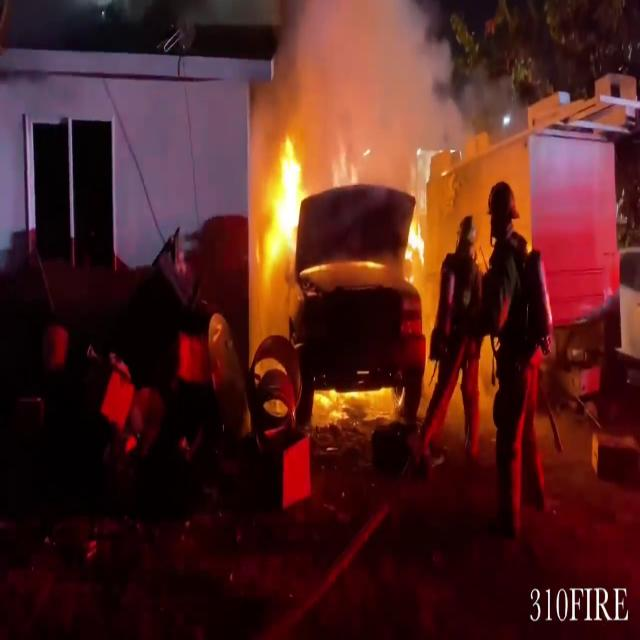Fire: (259, 129, 311, 275)
Smoke: (251, 0, 488, 176)
